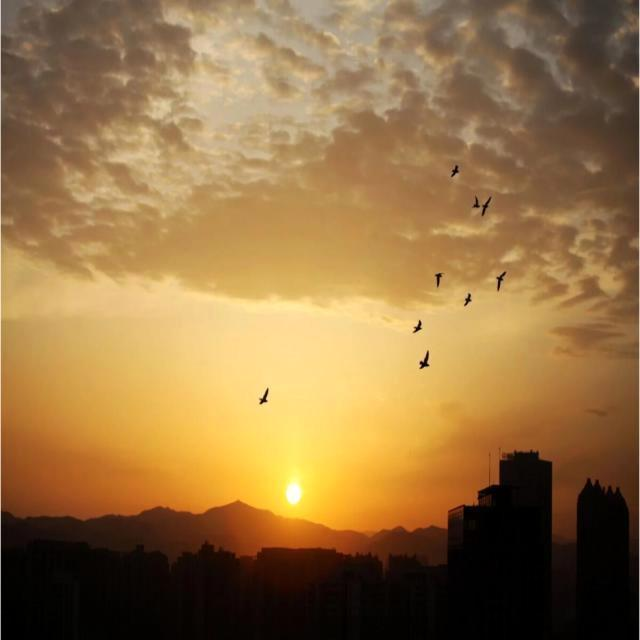bird: (489, 262, 513, 298), (428, 268, 451, 296), (446, 158, 462, 186), (256, 386, 274, 410), (416, 348, 432, 374), (482, 189, 494, 218), (462, 290, 477, 312), (408, 319, 424, 337), (468, 194, 480, 210)
